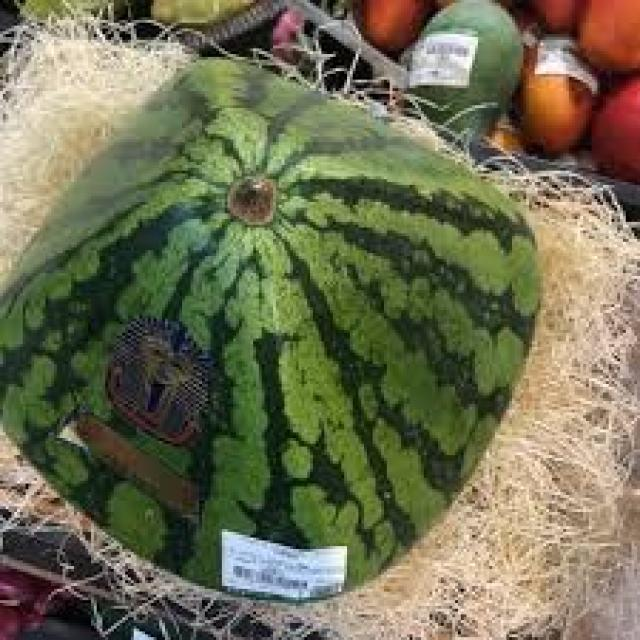watermelon: (0, 51, 543, 603)
